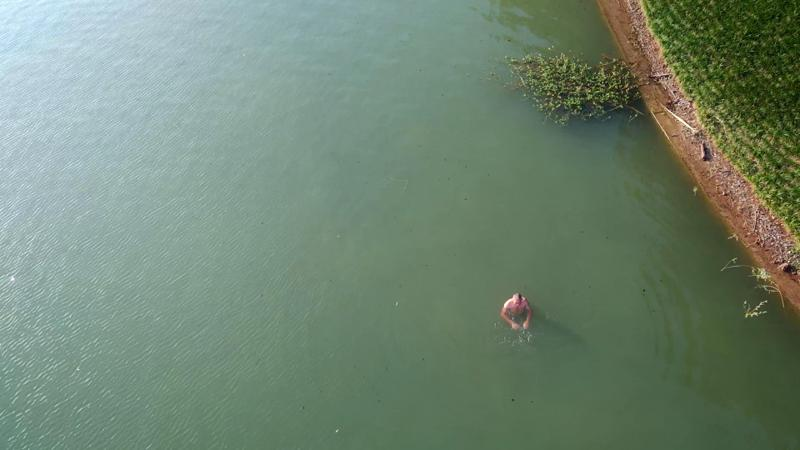swimmers: (499, 290, 531, 331)
